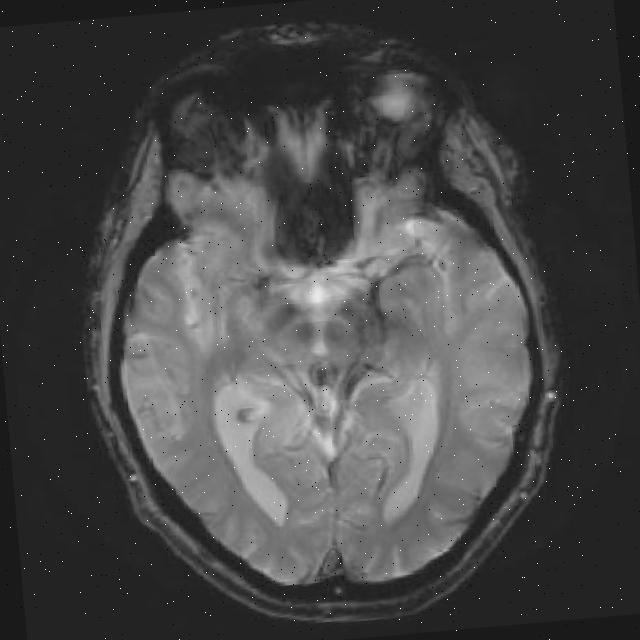MCI: (261, 275, 377, 382), (266, 139, 362, 264)
